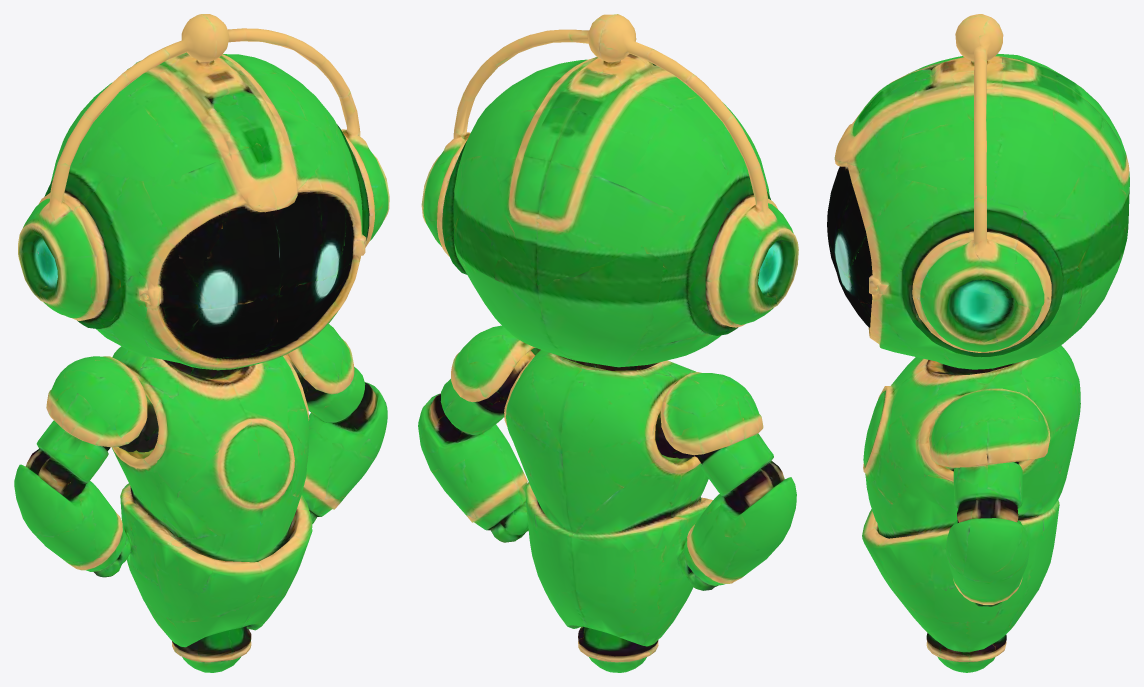
The model's file is backend.glb.
3 renders of one model, left to right at view 1: azimuth 30°, elevation 25°; view 2: azimuth 150°, elevation 25°; view 3: azimuth 270°, elevation 25°, orthographic.
Size of the model in its own units: 1.1 by 1.9 by 0.7979.
1 material, 1 textured.
